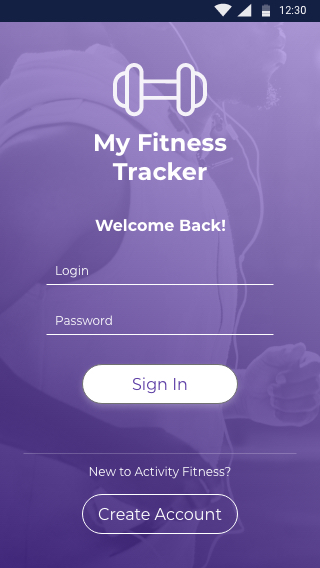BackgroundImage: (1, 23, 320, 568)
EditText: (46, 265, 275, 286), (46, 315, 275, 336)
Image: (113, 63, 208, 118)
Text: (95, 132, 228, 182), (89, 465, 232, 480), (95, 218, 227, 233), (56, 315, 113, 326), (56, 265, 89, 279)
TextButton: (82, 493, 239, 535), (83, 364, 238, 404)
UpperTaskBar: (1, 1, 320, 23)
